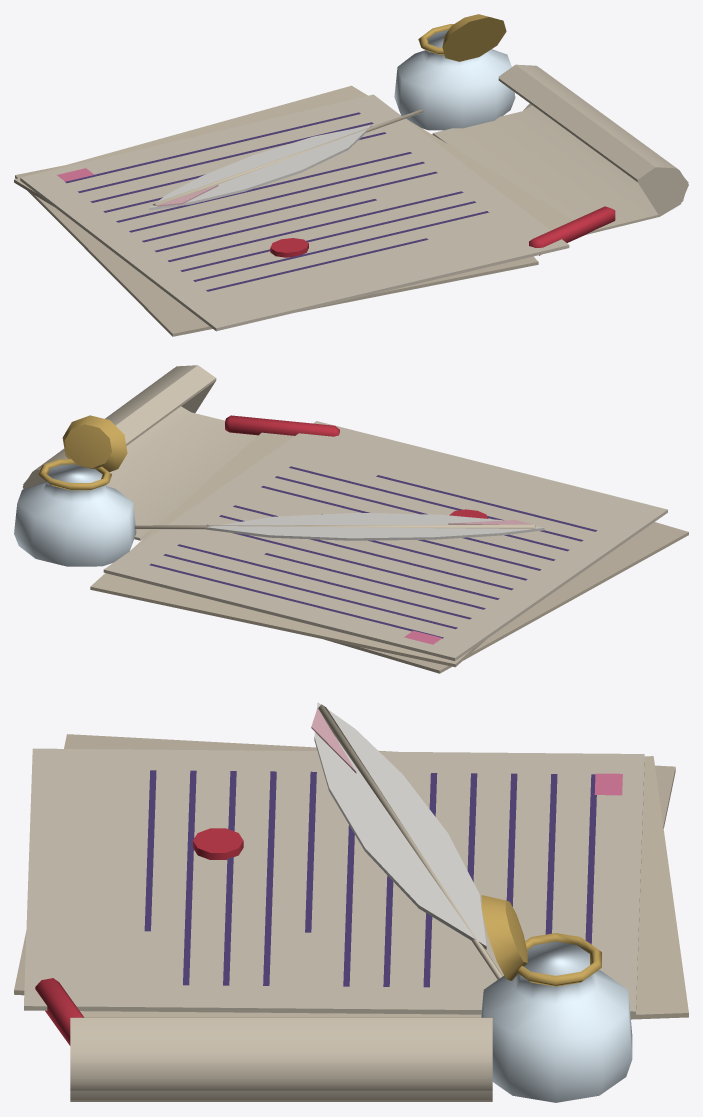
The model's file is quill_and_parchment.glb.
3 renders of one model, top to bottom at view 1: azimuth 30°, elevation 25°; view 2: azimuth 150°, elevation 25°; view 3: azimuth 270°, elevation 25°, orthographic. The views are drawn at different scales.
Visible parts, largest first — view 1: quill_and_parchment; view 2: quill_and_parchment; view 3: quill_and_parchment.
Part boxes in pixels (x1,y1,x2,y2): quill_and_parchment: [14, 14, 688, 336]; quill_and_parchment: [14, 365, 688, 673]; quill_and_parchment: [14, 702, 688, 1102].
Size of what is drawn, in the model's own units: 0.4 by 0.08 by 0.3.
